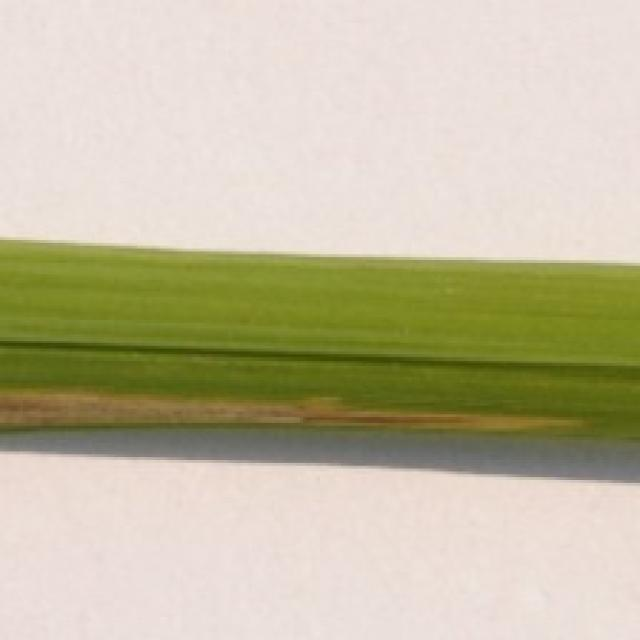Rice___Bacterial_Leaf_Blight: (0, 236, 637, 443)
